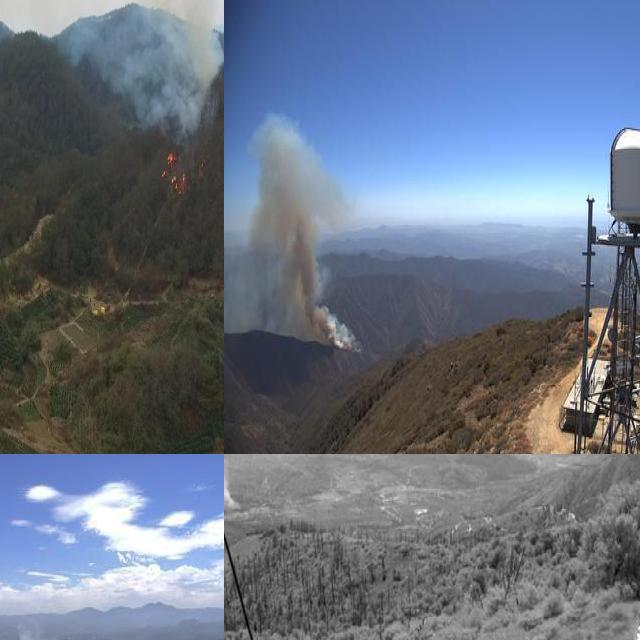fire: (140, 107, 224, 218)
smoke: (224, 114, 356, 358), (60, 0, 221, 124), (224, 454, 248, 515), (9, 620, 47, 640)
